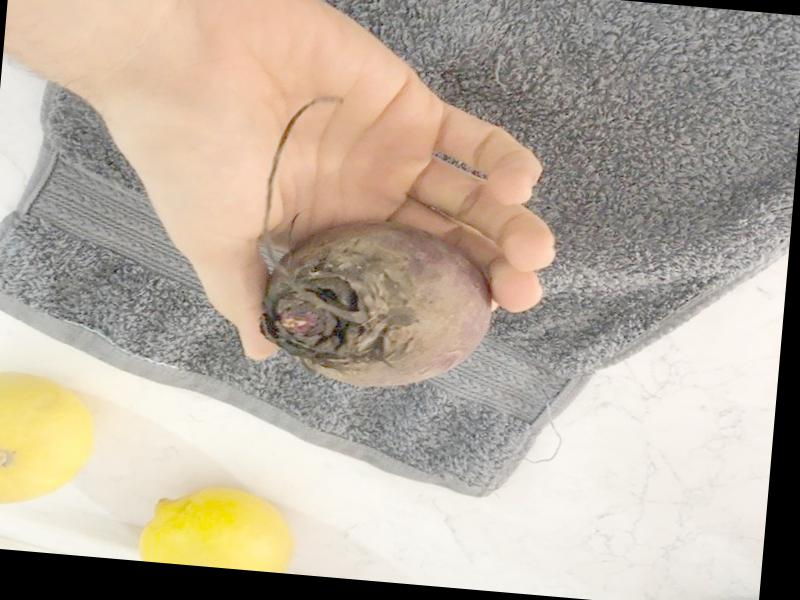Beet: (256, 92, 511, 397)
